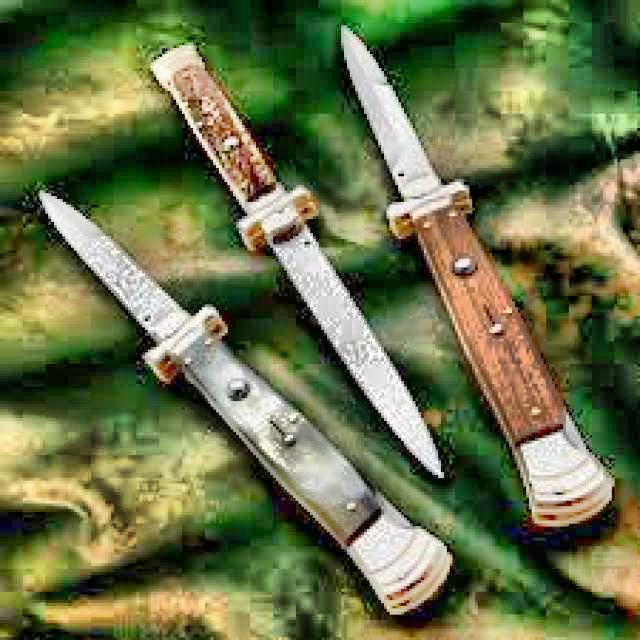knife: (38, 184, 458, 626), (338, 18, 619, 528), (146, 36, 464, 484)
